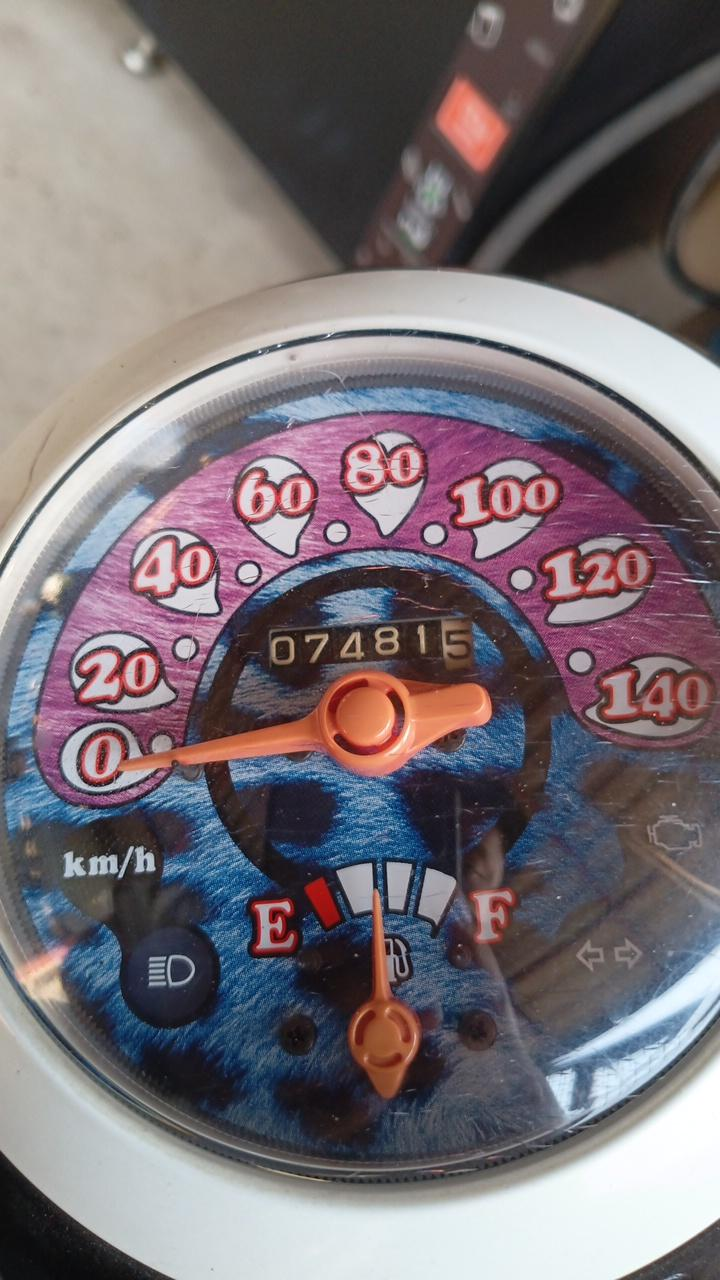0: (271, 635, 295, 667)
1: (417, 623, 427, 656)
4: (340, 630, 365, 661)
5: (445, 627, 471, 660)
7: (304, 632, 329, 664)
8: (373, 626, 400, 657)
odometer: (267, 617, 479, 678)
